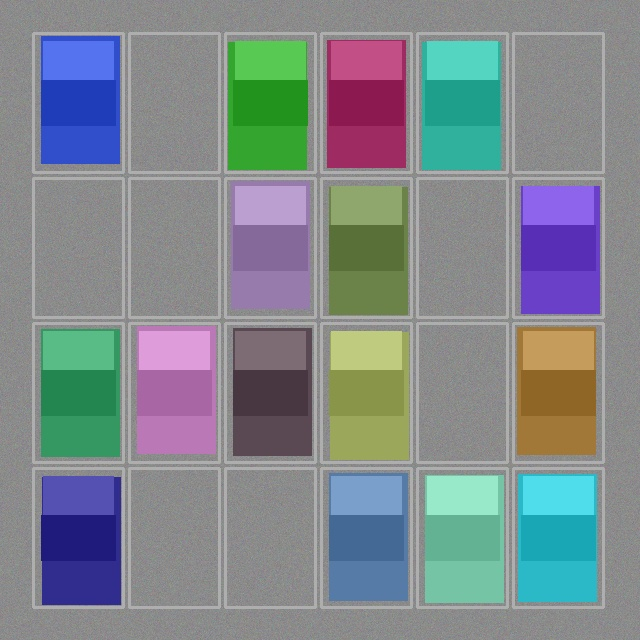space-empty: (131, 35, 217, 170), (515, 35, 601, 170), (35, 180, 121, 315), (131, 180, 217, 315), (419, 180, 505, 315), (419, 325, 505, 460), (131, 470, 217, 605), (227, 470, 313, 605)
space-occupied: (35, 35, 121, 170), (227, 35, 313, 170), (323, 35, 409, 170), (419, 35, 505, 170), (227, 180, 313, 315), (323, 180, 409, 315), (515, 180, 601, 315), (35, 325, 121, 460), (131, 325, 217, 460), (227, 325, 313, 460), (323, 325, 409, 460), (515, 325, 601, 460), (35, 470, 121, 605), (323, 470, 409, 605), (419, 470, 505, 605), (515, 470, 601, 605)
